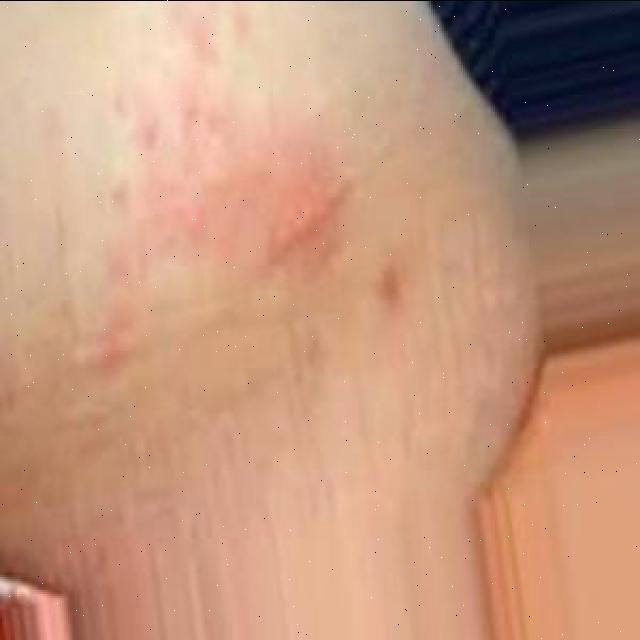Shingles: (115, 97, 348, 286)
